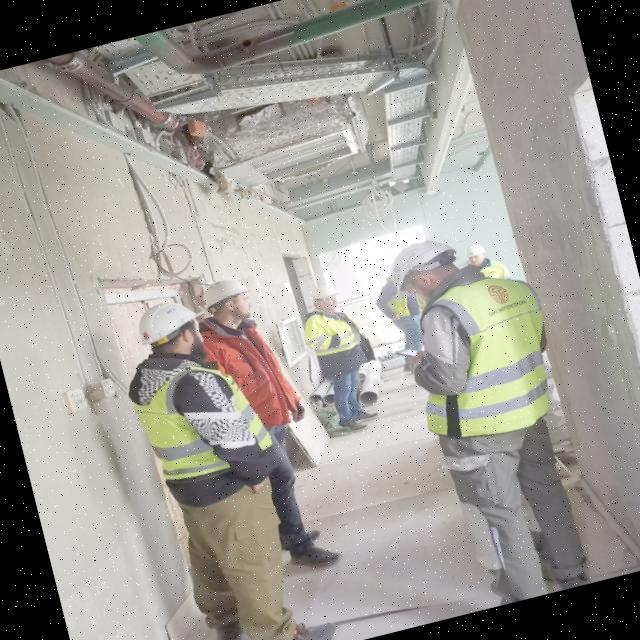Helmet: (384, 234, 463, 293), (133, 296, 205, 353), (200, 274, 256, 317), (309, 282, 343, 308), (462, 241, 490, 265)
Jacket: (403, 261, 561, 437), (136, 331, 268, 506), (308, 298, 369, 377)
NoJacket: (230, 307, 286, 429)
